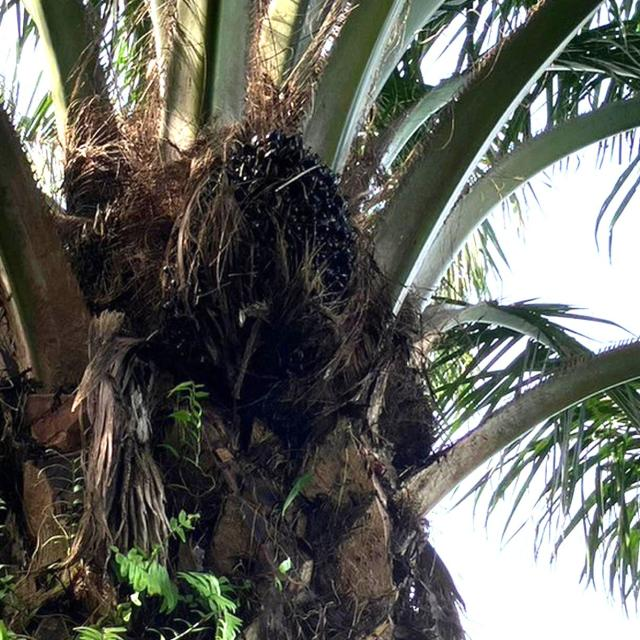unripe: (167, 111, 379, 406)
